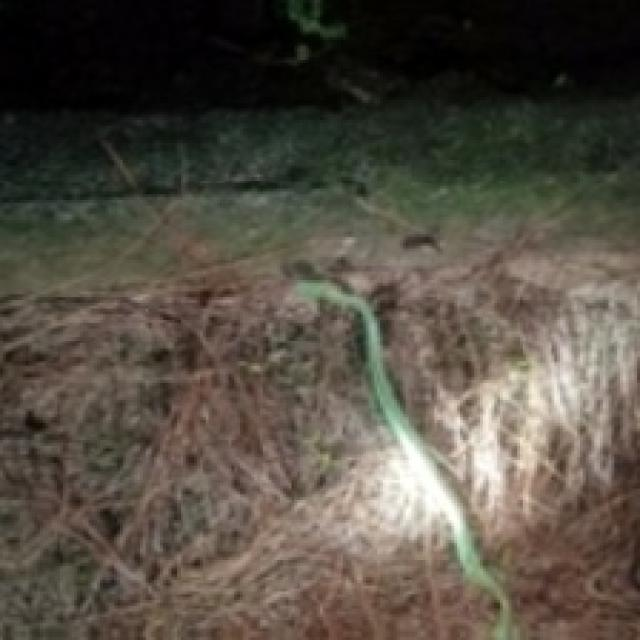north ph temple pitviper: (297, 274, 517, 637)
